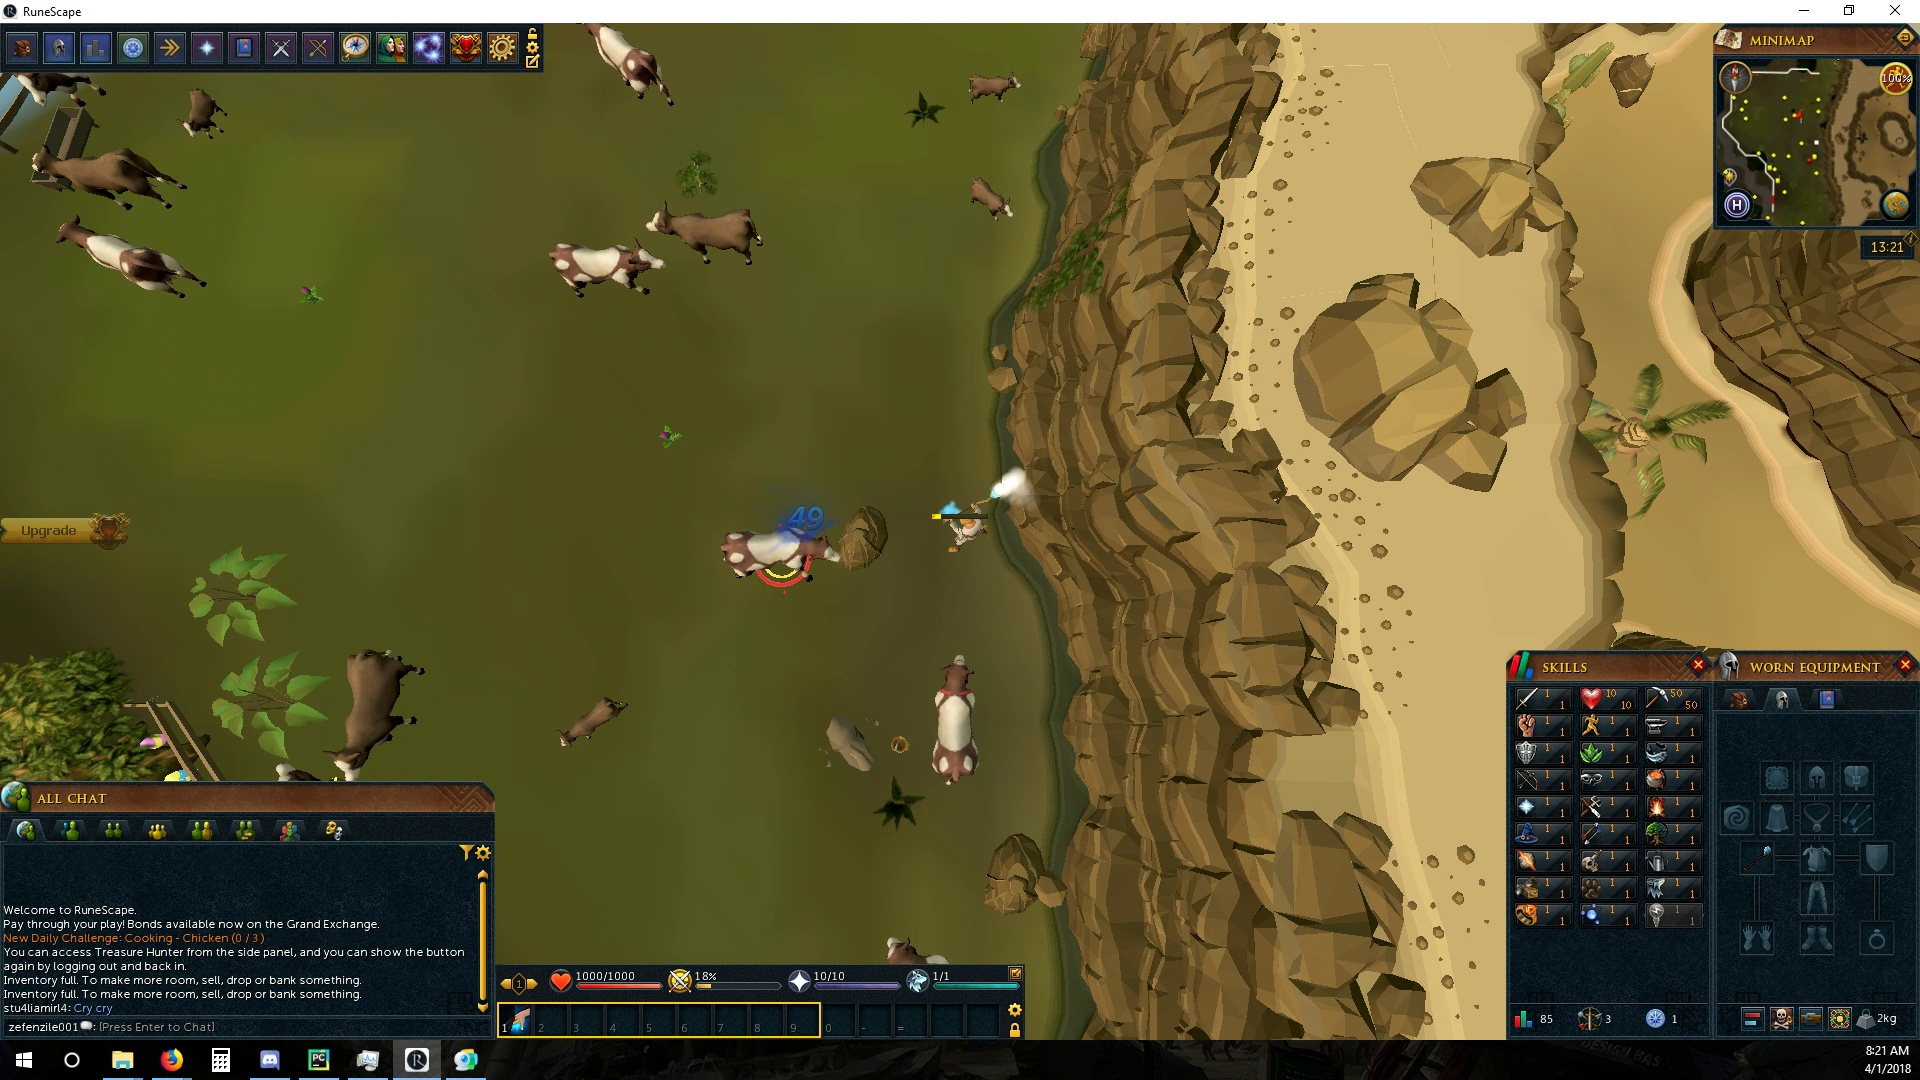calf: (553, 694, 626, 748), (179, 84, 227, 140), (967, 175, 1017, 223), (960, 75, 1025, 109)
cow: (320, 645, 429, 779), (49, 218, 208, 301), (22, 146, 190, 210), (647, 200, 767, 269), (579, 22, 676, 105), (928, 653, 984, 786), (719, 527, 843, 585), (549, 239, 669, 298)
